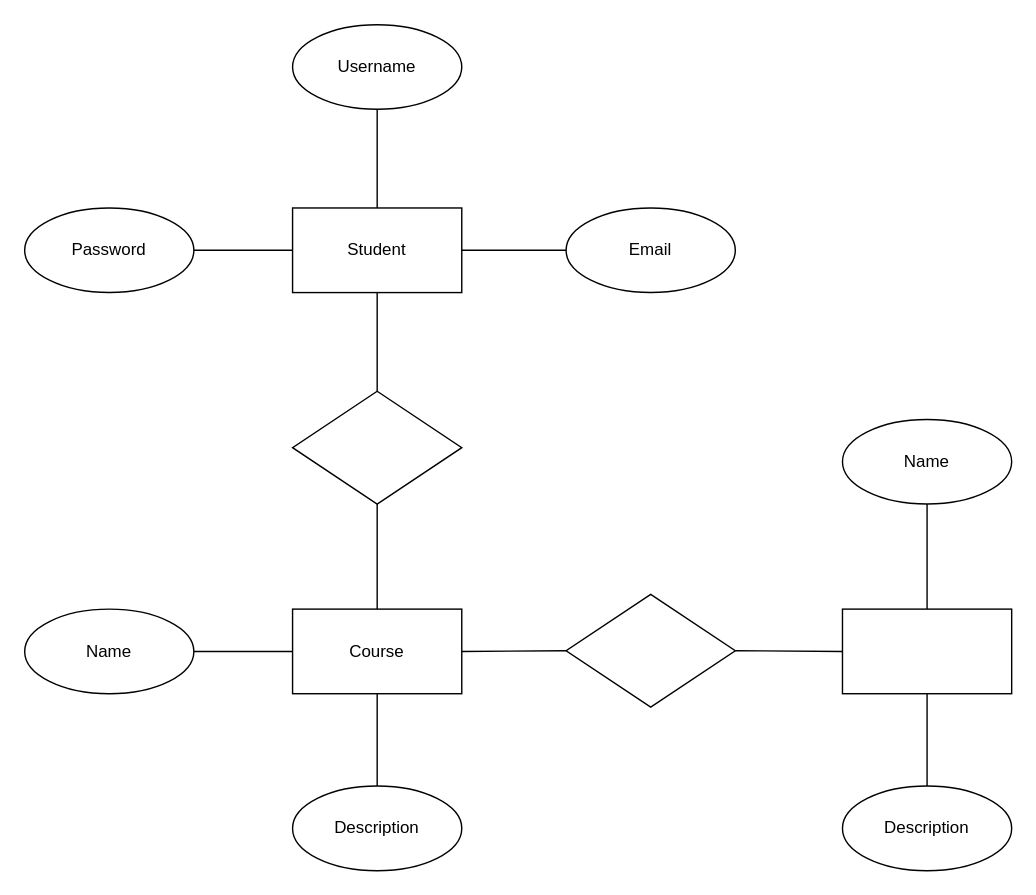
The diagram is 1036 pixels wide and 895 high, and some of its shapes have lost their labels. Each missing label, with the box of its shape:
Chapter: (841, 608, 1012, 694)
Has: (565, 593, 735, 707)
Participates: (291, 390, 462, 504)
